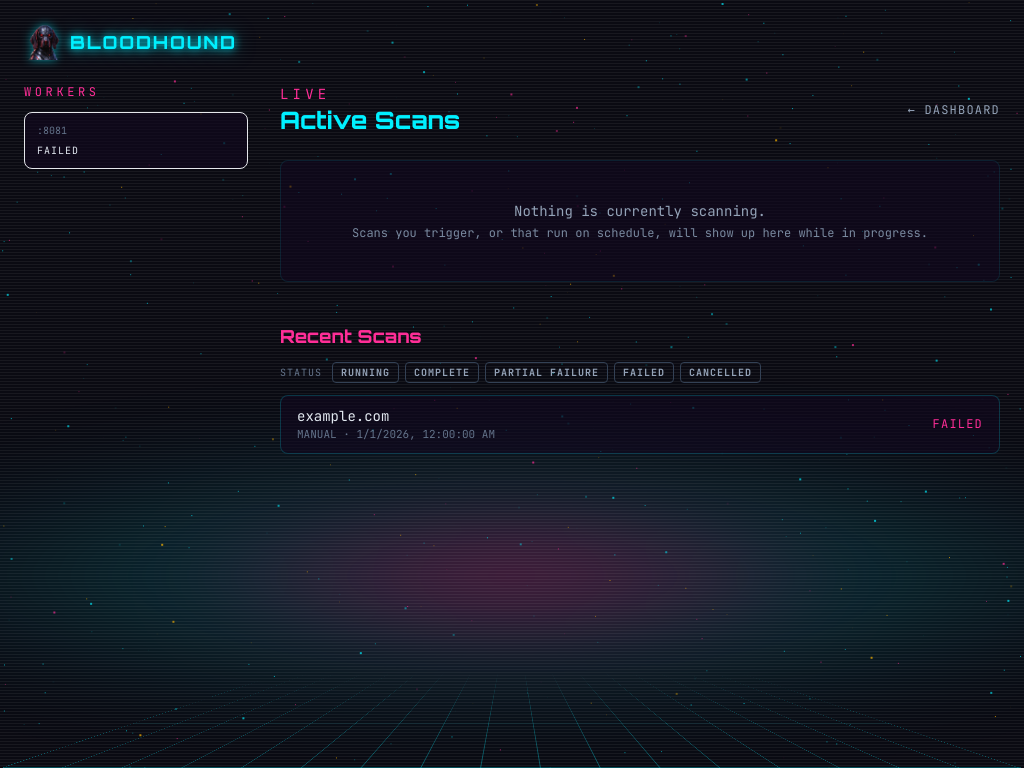
ScansPage - Recent Scans filtering and pagination › shows a status-specific empty state when a filter matches nothing
The width and height of the screenshot is (1024, 768).
Expected: the text "example.com" is shown, top-left (297, 407), bottom-right (389, 425)
Click the button "CANCELLED".
click(720, 372)  # box top-left (680, 362), bottom-right (761, 383)
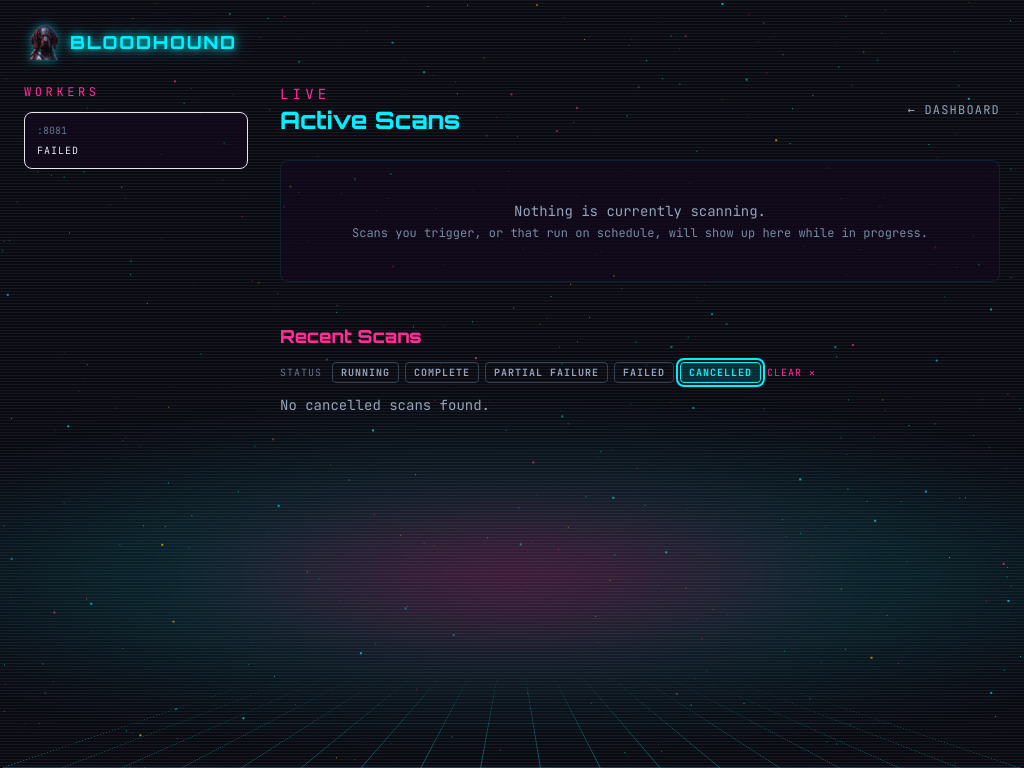
Expected: the text "No cancelled scans found." is shown, top-left (280, 396), bottom-right (490, 414)
